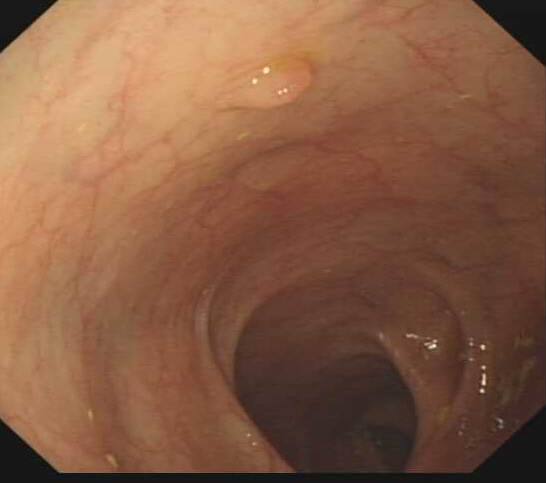adenoma: (221, 56, 314, 113)
